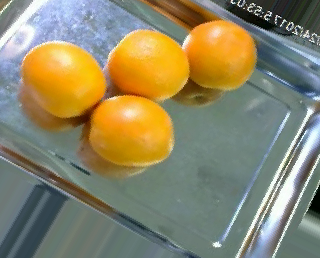Orange: (21, 40, 107, 118), (89, 94, 175, 167), (107, 27, 189, 101), (182, 19, 259, 90)
